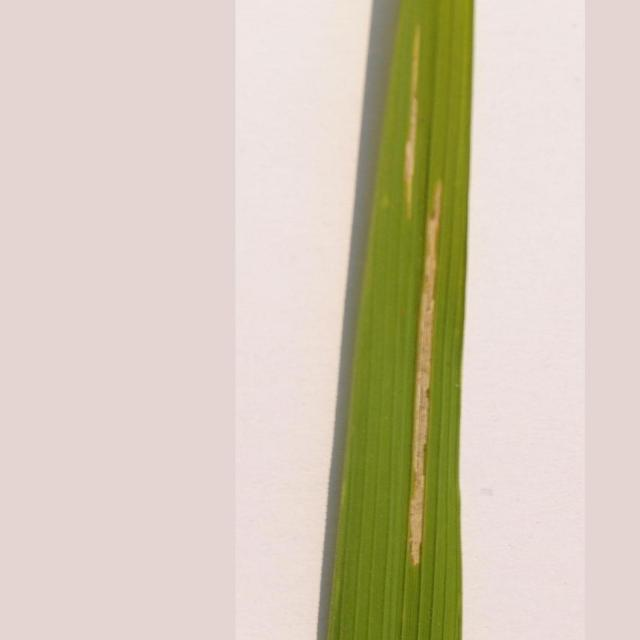leaf blight: (395, 21, 447, 570)
